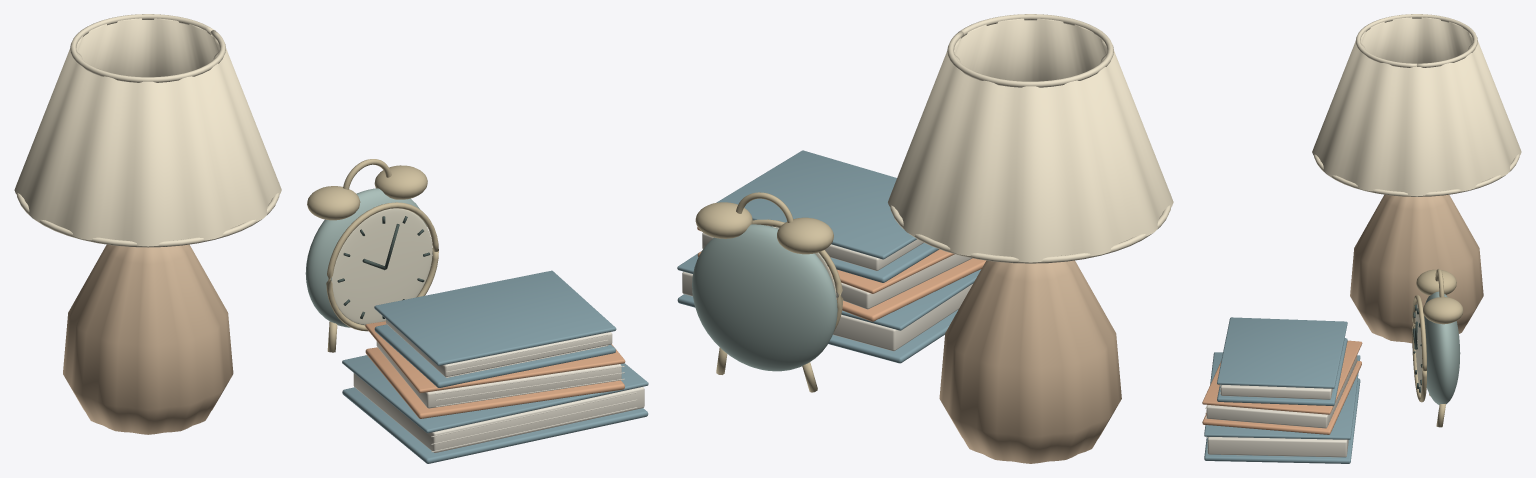
The model's file is arr_bedside.glb.
3 views of the same model, side by side, from view 1: azimuth 30°, elevation 25°; view 2: azimuth 150°, elevation 25°; view 3: azimuth 270°, elevation 25° (orthographic). The views are drawn at different scales.
Parts seen in each view (by area): view 1: arr_bedside__bedside_lamp_accent, arr_bedside__bedside_lamp_body, arr_bedside__book_stack_body, arr_bedside__book_stack_paper, arr_bedside__alarm_clock_face, arr_bedside__book_stack_accent, arr_bedside__alarm_clock_accent, arr_bedside__alarm_clock_body; view 2: arr_bedside__bedside_lamp_accent, arr_bedside__bedside_lamp_body, arr_bedside__alarm_clock_body, arr_bedside__book_stack_body, arr_bedside__book_stack_paper, arr_bedside__alarm_clock_accent, arr_bedside__book_stack_accent; view 3: arr_bedside__bedside_lamp_accent, arr_bedside__bedside_lamp_body, arr_bedside__book_stack_body, arr_bedside__book_stack_paper, arr_bedside__book_stack_accent, arr_bedside__alarm_clock_accent, arr_bedside__alarm_clock_body, arr_bedside__alarm_clock_face.
Boxes of the visible parts, x1,y1,x2,y2 form: arr_bedside__bedside_lamp_accent: (14,14,281,247); arr_bedside__bedside_lamp_body: (63,244,233,434); arr_bedside__book_stack_body: (342,270,648,463); arr_bedside__book_stack_paper: (353,319,644,452); arr_bedside__alarm_clock_face: (331,208,432,324); arr_bedside__book_stack_accent: (365,321,625,418); arr_bedside__alarm_clock_accent: (307,159,438,352); arr_bedside__alarm_clock_body: (305,188,427,327); arr_bedside__bedside_lamp_accent: (888,14,1173,263); arr_bedside__bedside_lamp_body: (939,260,1121,463); arr_bedside__alarm_clock_body: (692,224,837,371); arr_bedside__book_stack_body: (677,150,981,363); arr_bedside__book_stack_paper: (682,233,972,351); arr_bedside__alarm_clock_accent: (695,192,843,392); arr_bedside__book_stack_accent: (697,227,986,321); arr_bedside__bedside_lamp_accent: (1312,14,1521,196); arr_bedside__bedside_lamp_body: (1350,194,1483,343); arr_bedside__book_stack_body: (1204,317,1360,463); arr_bedside__book_stack_paper: (1205,355,1357,457); arr_bedside__book_stack_accent: (1202,340,1362,434); arr_bedside__alarm_clock_accent: (1412,269,1463,427); arr_bedside__alarm_clock_body: (1424,291,1460,404); arr_bedside__alarm_clock_face: (1415,302,1422,394).
Bounding box in the file's own units: 0.5428 × 0.383 × 0.3916.
